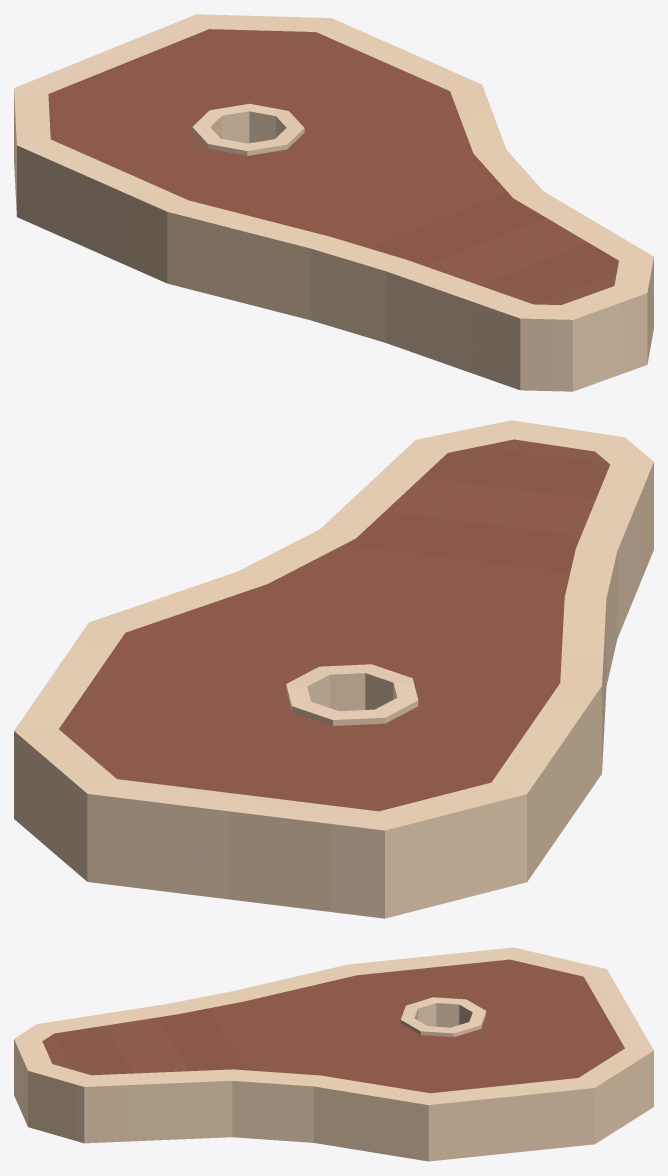
Rendered from Steak.obj.
3 renders of one model, top to bottom at view 1: azimuth 30°, elevation 25°; view 2: azimuth 150°, elevation 25°; view 3: azimuth 270°, elevation 25°, orthographic. The views are drawn at different scales.
Parts seen in each view (by area): view 1: Cube.014_Cube.044; view 2: Cube.014_Cube.044; view 3: Cube.014_Cube.044.
Boxes of the visible parts, <box> form: Cube.014_Cube.044: <box>14,14,653,391</box>; Cube.014_Cube.044: <box>14,420,653,918</box>; Cube.014_Cube.044: <box>14,947,653,1161</box>.
Bounding box in the file's own units: 0.5829 × 0.1117 × 1.
Materials: 1 (1 with a texture image).
